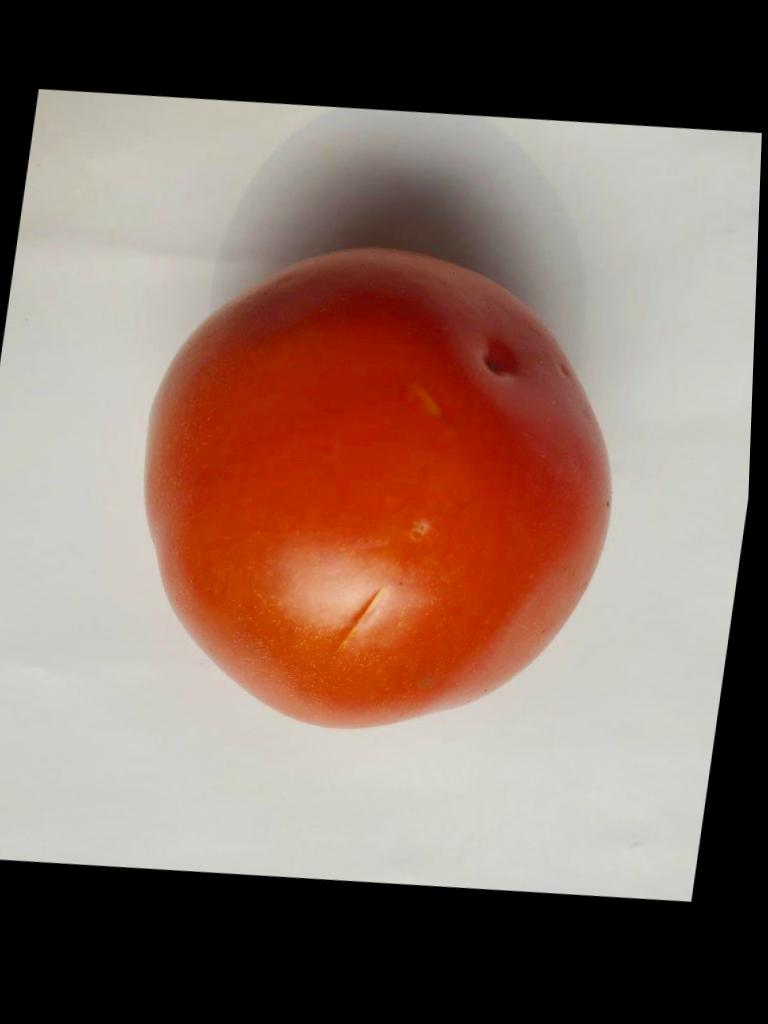surface_damage: (338, 586, 388, 649), (410, 383, 439, 416)
tomato: (147, 249, 611, 726)
